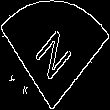N_SW: (31, 23, 79, 87)
